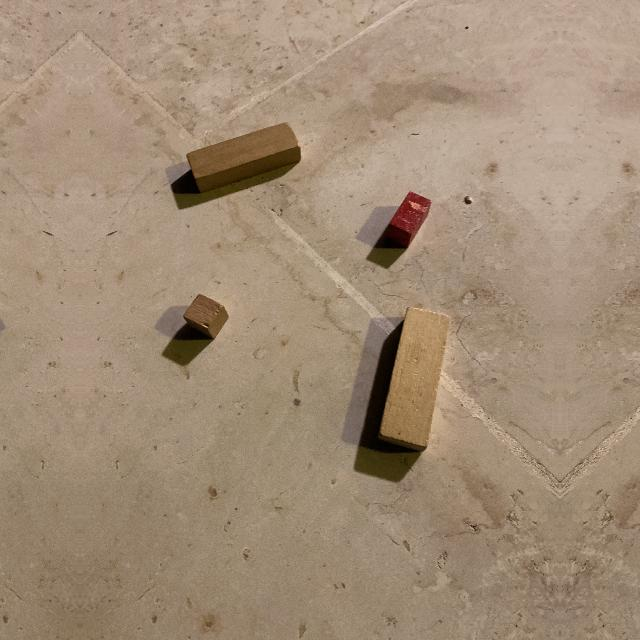cube: (183, 294, 229, 339)
jenga: (377, 307, 451, 452), (186, 123, 301, 193)
red block: (386, 191, 431, 248)
